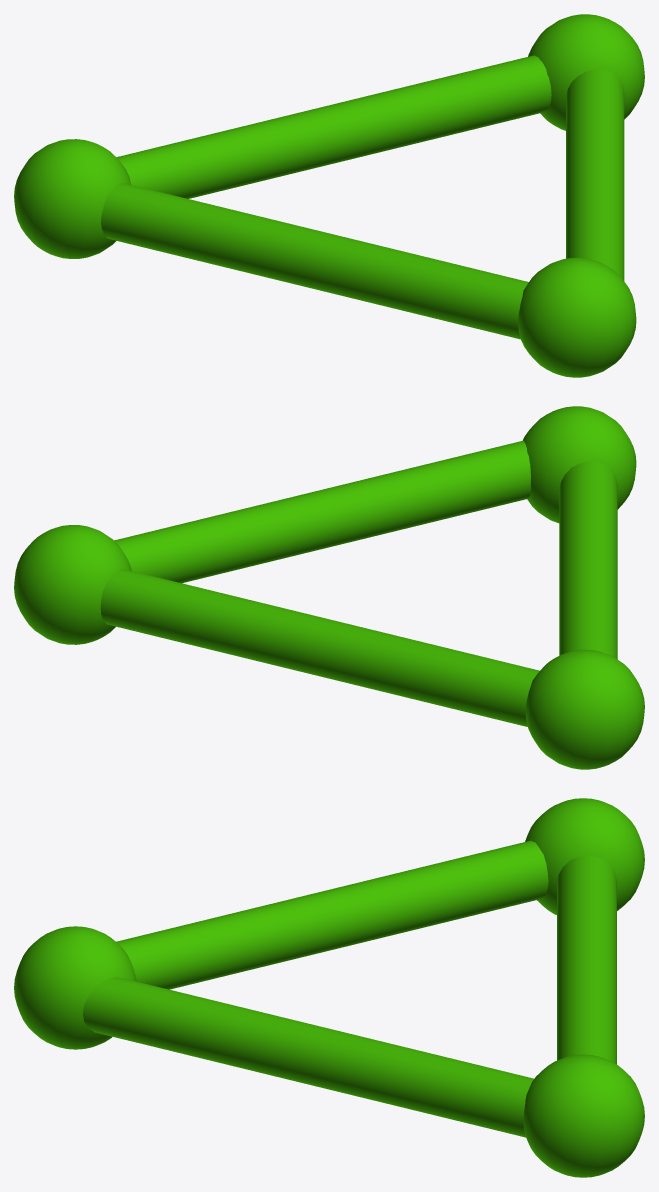
The model's file is Grn Triangle Powerup.fbx.
3 renders of one model, top to bottom at view 1: azimuth 30°, elevation 25°; view 2: azimuth 150°, elevation 25°; view 3: azimuth 270°, elevation 25°, orthographic. The views are drawn at different scales.
Visible parts, largest first — view 1: pCylinder5, pCylinder3, pSphere5, pCylinder4, pSphere4, pSphere3; view 2: pCylinder3, pCylinder4, pSphere4, pCylinder5, pSphere3, pSphere5; view 3: pCylinder4, pCylinder5, pSphere3, pCylinder3, pSphere5, pSphere4.
Part boxes in pixels (box(x1,y1,x2,y2)): pCylinder5: box(101, 183, 528, 339); pCylinder3: box(116, 55, 551, 198); pSphere5: box(518, 257, 636, 377); pCylinder4: box(566, 69, 624, 280); pSphere4: box(14, 139, 131, 258); pSphere3: box(528, 14, 644, 130); pCylinder3: box(100, 569, 539, 726); pCylinder4: box(114, 440, 530, 583); pSphere4: box(525, 649, 644, 769); pCylinder5: box(559, 461, 617, 659); pSphere3: box(14, 525, 131, 644); pSphere5: box(523, 406, 636, 523); pCylinder4: box(83, 977, 533, 1137); pCylinder5: box(116, 840, 548, 989); pSphere3: box(523, 1054, 644, 1177); pCylinder3: box(557, 855, 616, 1064); pSphere5: box(14, 926, 136, 1049); pSphere4: box(525, 798, 644, 914).
Size of the model in its own units: 24.48 by 4.14 by 21.17.
